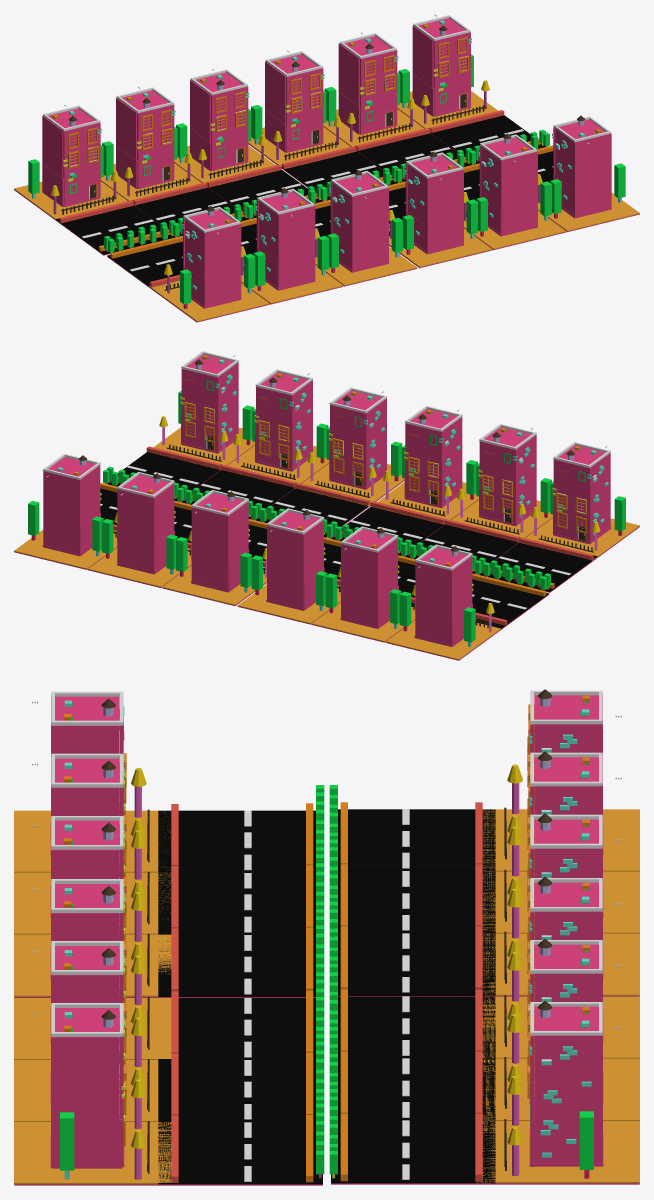
Rendered from arvr.glb.
The picture shows the model from 3 angles, top to bottom: view 1: azimuth 30°, elevation 25°; view 2: azimuth 150°, elevation 25°; view 3: azimuth 270°, elevation 25°; orthographic projection. The views are drawn at different scales.
Parts seen in each view (by area): view 1: Cube.693, Cube.1001, Cube.770, Cube.847, Cube.924, Cube.1078, Cube.325, Cube.017, Cube.248, Cube.094, Cube.171, Cube.402 (+43 smaller); view 2: Cube.385, Cube.231, Cube.308, Cube.154, Cube, Cube.077, Cube.787, Cube.1095, Cube.1018, Cube.864, Cube.941, Cube.710 (+51 smaller); view 3: Cube.079, Cube.695, Cube.772, Cube.233, Cube.310, Cube.387, Cube.002, Cube.1080, Cube.156, Cube.926, Cube.849, Cube.1003 (+47 smaller).
Boxes of the visible parts, x1,y1,x2,y2 form: Cube.693: (258,192,314,289); Cube.1001: (407,155,463,252); Cube.770: (185,210,240,306); Cube.847: (332,174,388,272); Cube.924: (481,140,537,235); Cube.1078: (555,128,611,217); Cube.325: (211,86,248,168); Cube.017: (360,50,397,132); Cube.248: (137,104,174,186); Cube.094: (433,32,470,114); Cube.171: (286,68,323,150); Cube.402: (63,122,100,204); Cube.385: (415,548,467,646); Cube.231: (341,529,395,628); Cube.308: (267,511,322,610); Cube.154: (191,493,240,592); Cube: (117,475,154,574); Cube.077: (43,471,79,556); Cube.787: (553,459,591,544); Cube.1095: (181,368,219,453); Cube.1018: (330,405,367,489); Cube.864: (405,423,442,507); Cube.941: (256,386,293,471); Cube.710: (479,441,516,525); Cube.079: (331,1121,495,1183); Cube.695: (158,872,315,934); Cube.772: (158,810,315,872); Cube.233: (338,871,495,933); Cube.310: (338,933,495,995); Cube.387: (338,809,495,871); Cube.002: (338,1058,495,1120); Cube.1080: (158,1122,322,1184); Cube.156: (338,996,495,1058); Cube.926: (158,1060,315,1121); Cube.849: (158,934,315,996); Cube.1003: (158,998,315,1059).
Bounding box in the file's own units: 245 × 45.63 × 173.
